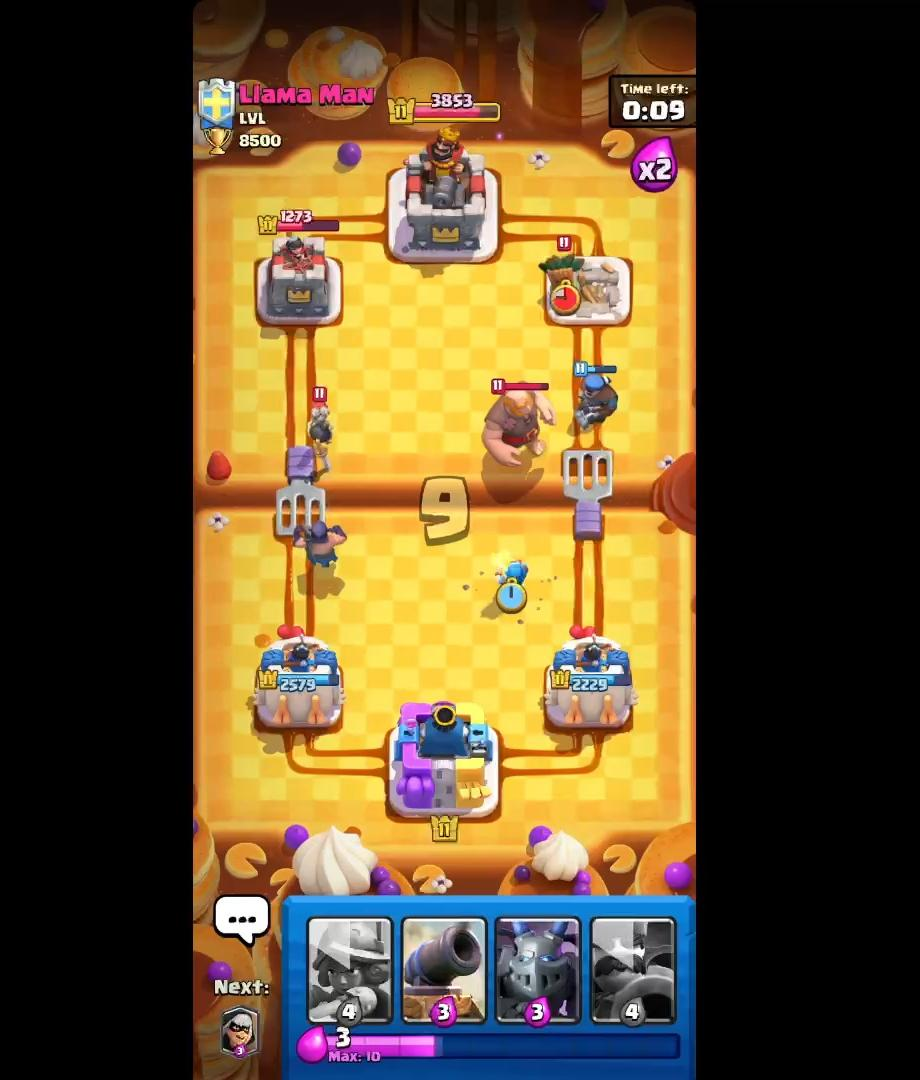Bomber: (301, 382, 344, 460)
Giant: (479, 373, 561, 470)
